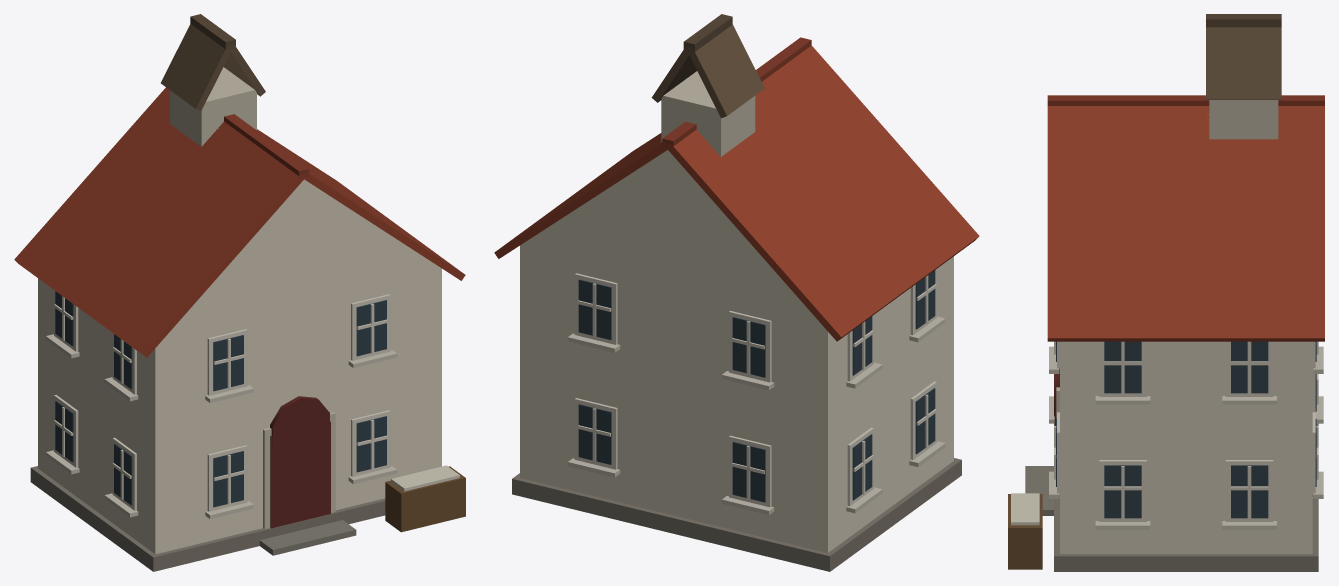
The model's file is procedural_study@4.glb.
3 views of the same model, side by side, from view 1: azimuth 30°, elevation 25°; view 2: azimuth 150°, elevation 25°; view 3: azimuth 270°, elevation 25° (orthographic). The views are drawn at different scales.
Visible parts, largest first — view 1: part_0; view 2: part_0; view 3: part_0.
Boxes of the visible parts, x1=… form: part_0: x1=14, y1=14, x2=465, y2=571; part_0: x1=494, y1=14, x2=979, y2=571; part_0: x1=1008, y1=14, x2=1324, y2=571.
Bounding box in the file's own units: 6.99 × 9.17 × 5.51.
